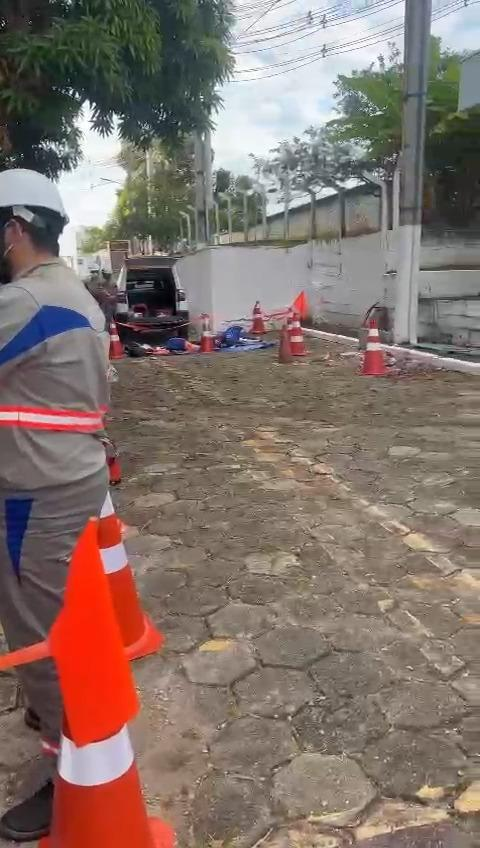Cone: (61, 506, 181, 848), (357, 306, 390, 368), (245, 296, 277, 339), (287, 304, 312, 358), (199, 308, 222, 354), (113, 322, 134, 362)
Helmet: (0, 152, 75, 275)
